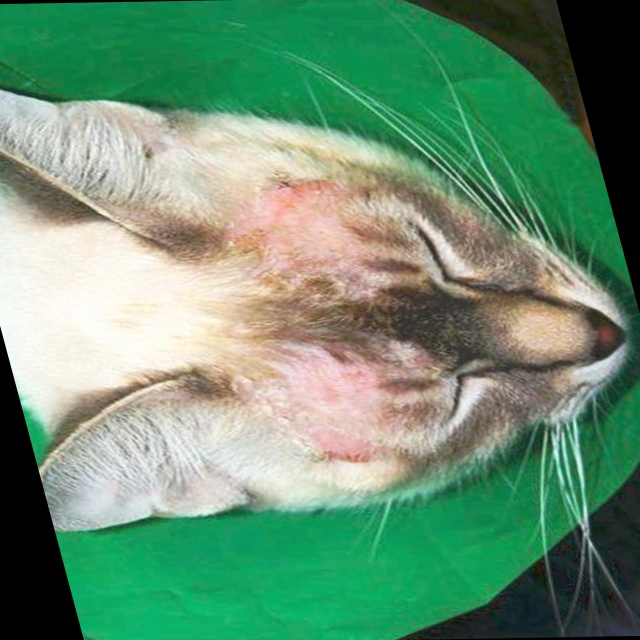ringworm: (269, 353, 402, 464), (245, 174, 369, 273)
